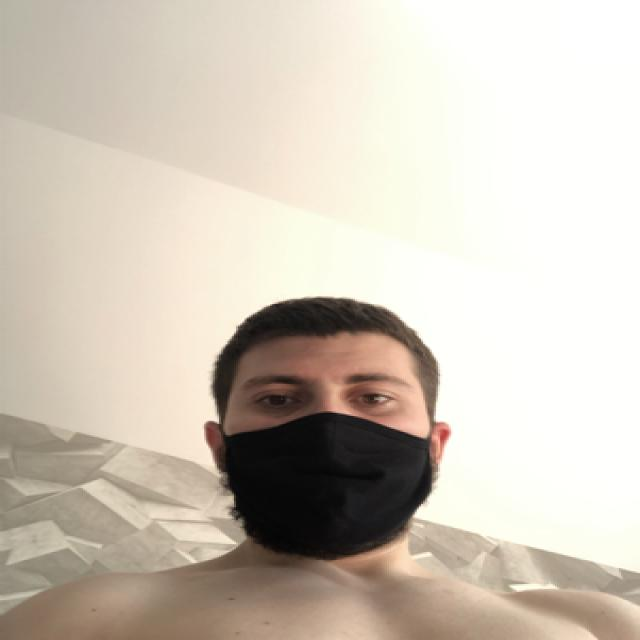mask: (219, 360, 438, 558)
